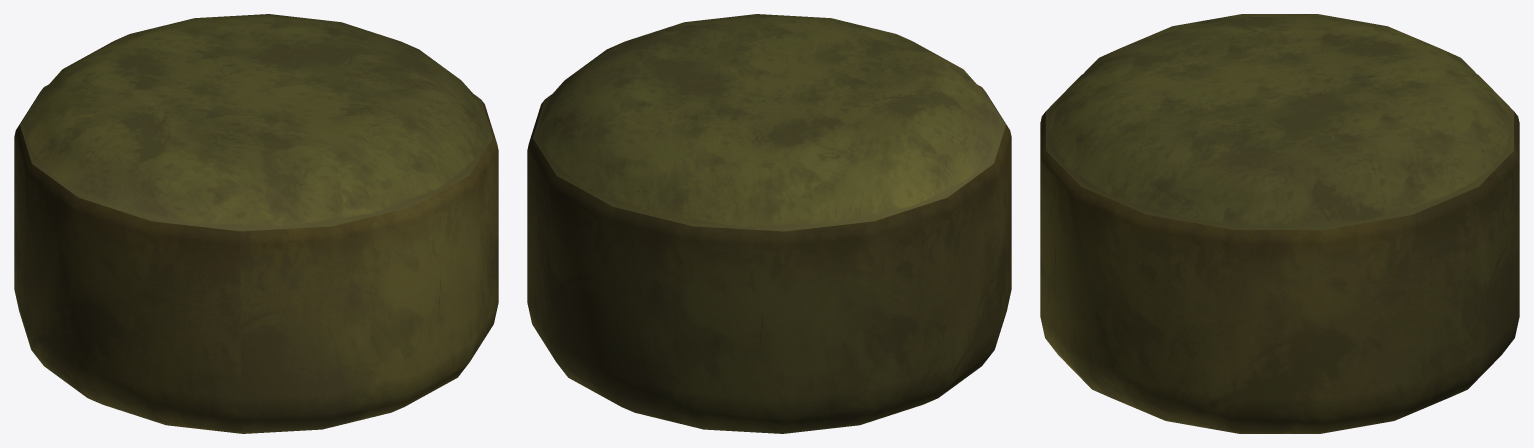
Rendered from Benbrook Ottoman.FBX.
3 renders of one model, left to right at view 1: azimuth 30°, elevation 25°; view 2: azimuth 150°, elevation 25°; view 3: azimuth 270°, elevation 25°, orthographic.
Visible parts, largest first — view 1: Benbrook Ottoman; view 2: Benbrook Ottoman; view 3: Benbrook Ottoman.
Part boxes in pixels (x1,y1,x2,y2): Benbrook Ottoman: (14, 14, 498, 433); Benbrook Ottoman: (527, 14, 1011, 433); Benbrook Ottoman: (1040, 14, 1519, 433).
Bounding box in the file's own units: 0.865 × 0.5404 × 0.865.
Materials: 1 (1 with a texture image).
